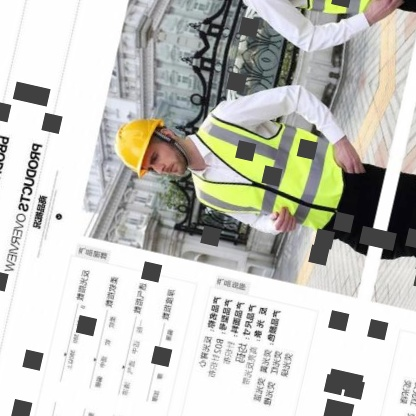vest: (177, 88, 361, 246)
yellow: (105, 103, 170, 181)
